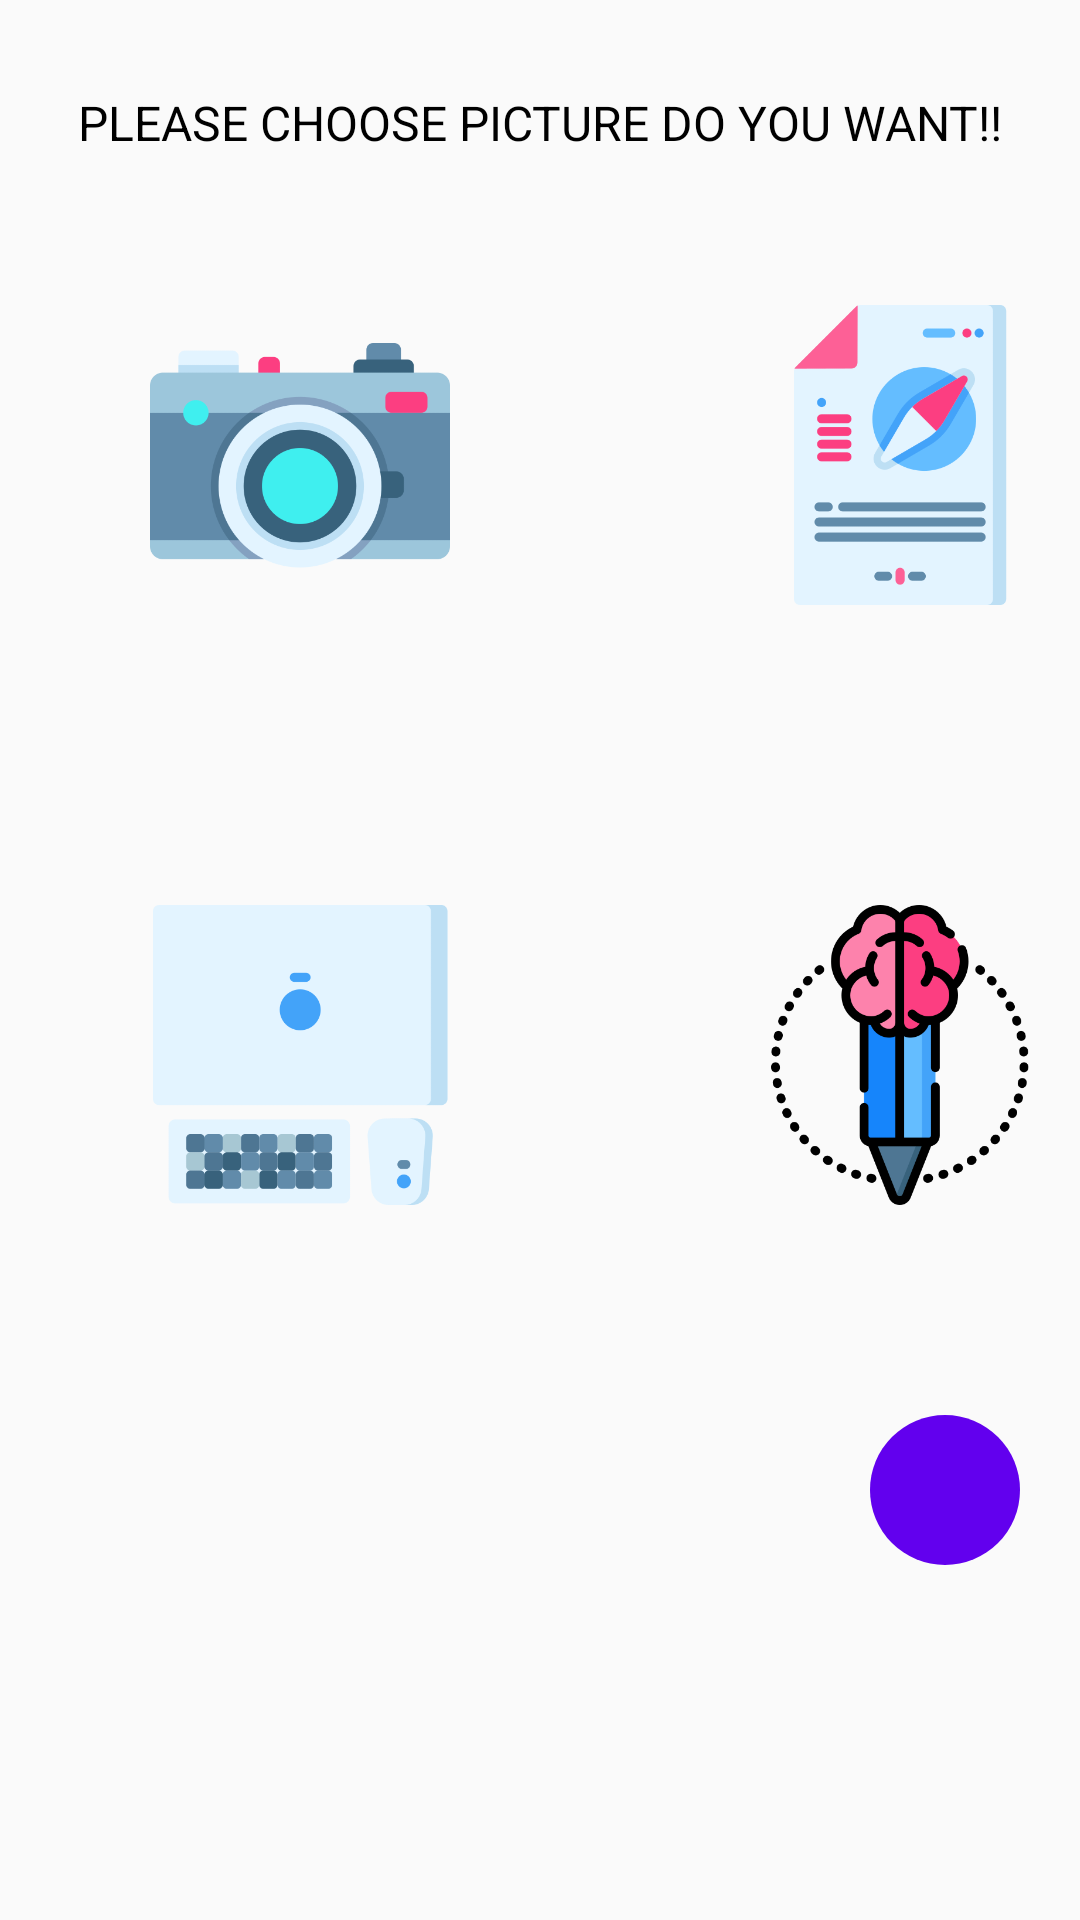

Icons on this 1080w x 1920h Android screen, each with its box as {"x1": x1, "y1": y1, "x2": x2, "y2": y2}:
camera: {"x1": 150, "y1": 343, "x2": 450, "y2": 559}
computer: {"x1": 153, "y1": 905, "x2": 448, "y2": 1205}
pencil: {"x1": 771, "y1": 905, "x2": 1029, "y2": 1205}
